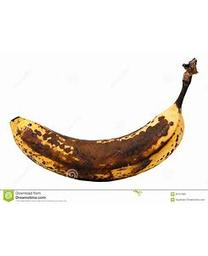banana: (10, 57, 200, 182)
